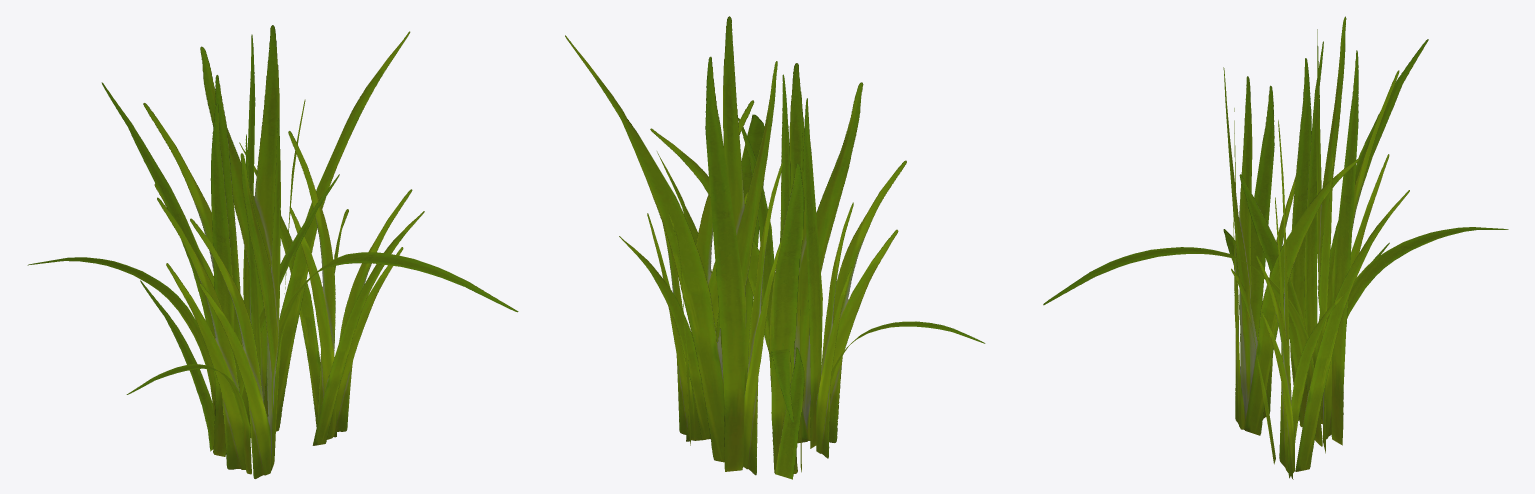
File: grasses2.fbx
3 views of the same model, side by side, from view 1: azimuth 30°, elevation 25°; view 2: azimuth 150°, elevation 25°; view 3: azimuth 270°, elevation 25° (orthographic). The views are drawn at different scales.
Visible parts, largest first — view 1: grass02; view 2: grass02; view 3: grass02.
Boxes of the visible parts, left/top/right/bottom form: grass02: left=27, top=25, right=518, bottom=478; grass02: left=565, top=16, right=985, bottom=479; grass02: left=1043, top=16, right=1508, bottom=479.
Size of the model in its own units: 80.55 by 92.41 by 96.98.
Materials: 1 (1 with a texture image).
